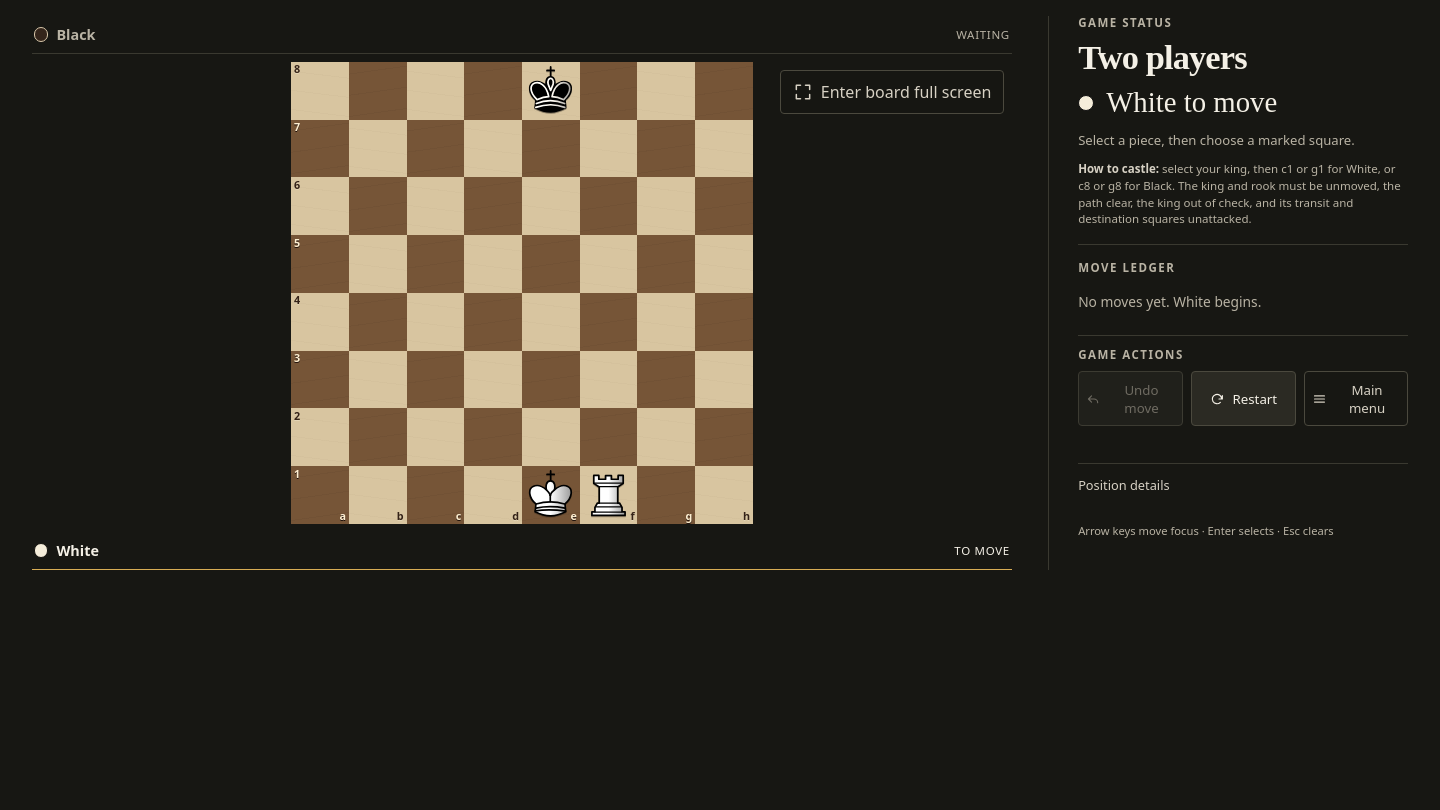
Test: two-player game screen › marks a checked king
Click the button "f": x=609, y=495 [580,466,637,524]
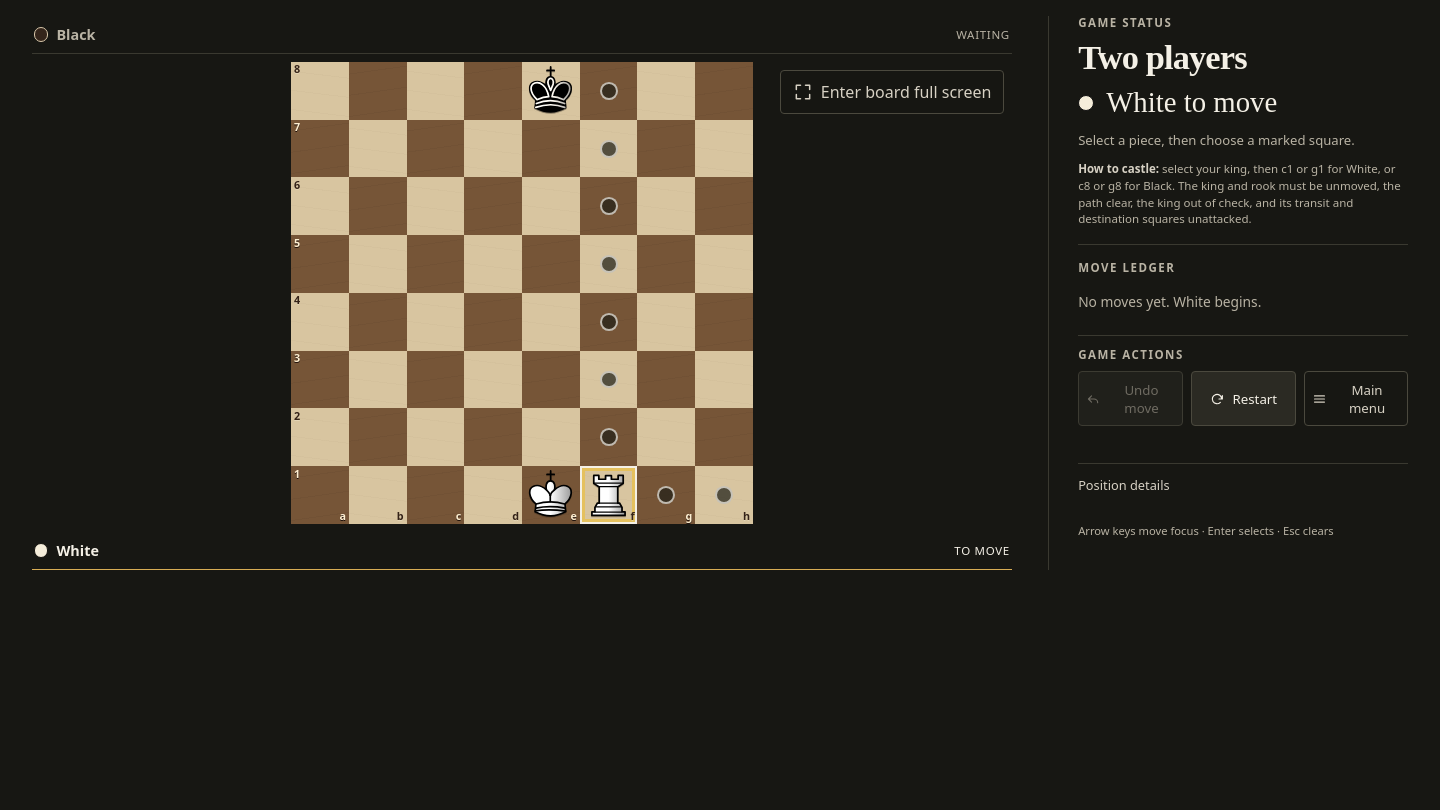
Click the button named "f8, empty": x=609, y=91 [580,62,637,120]
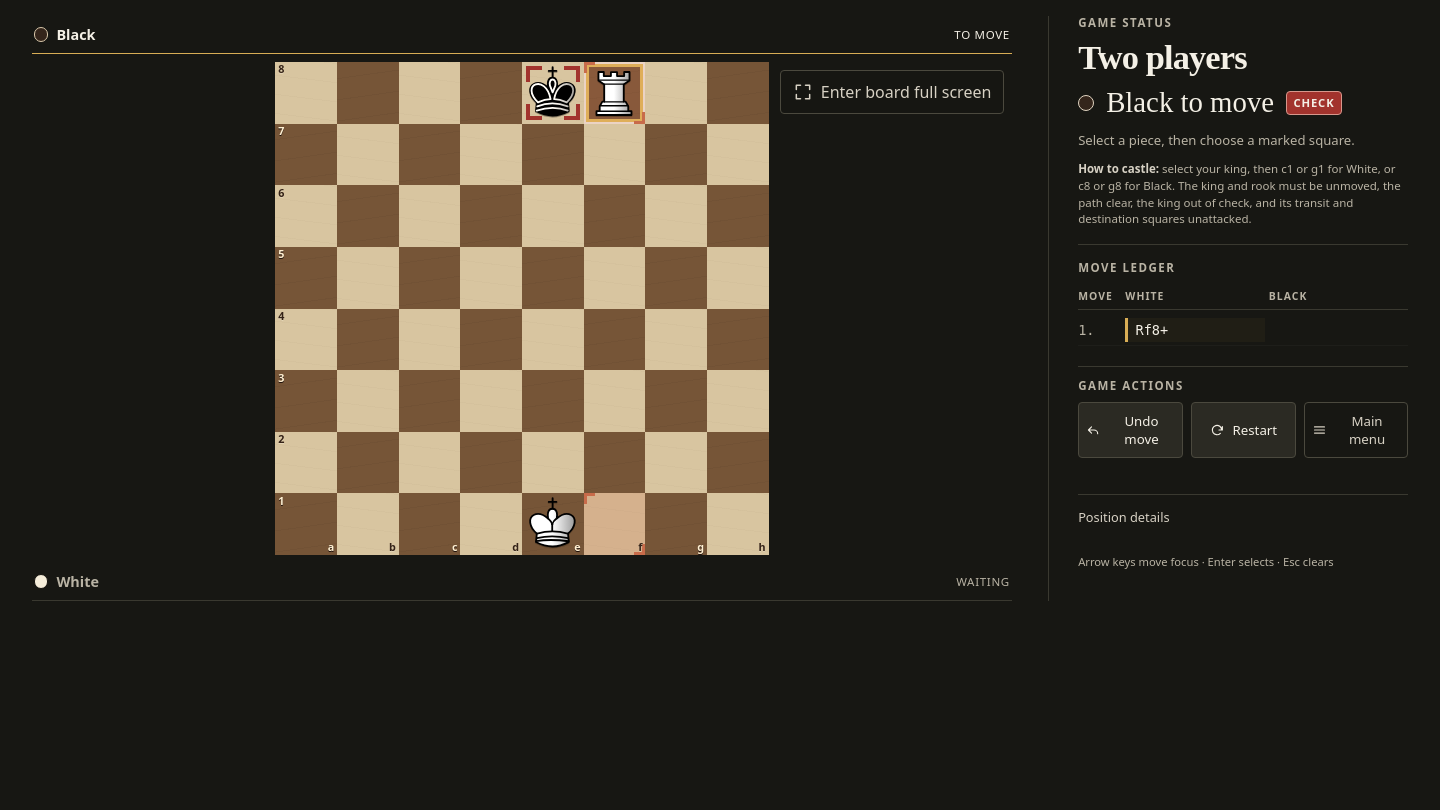
Result: the message shows "Check" at [1294,95,1334,110]
